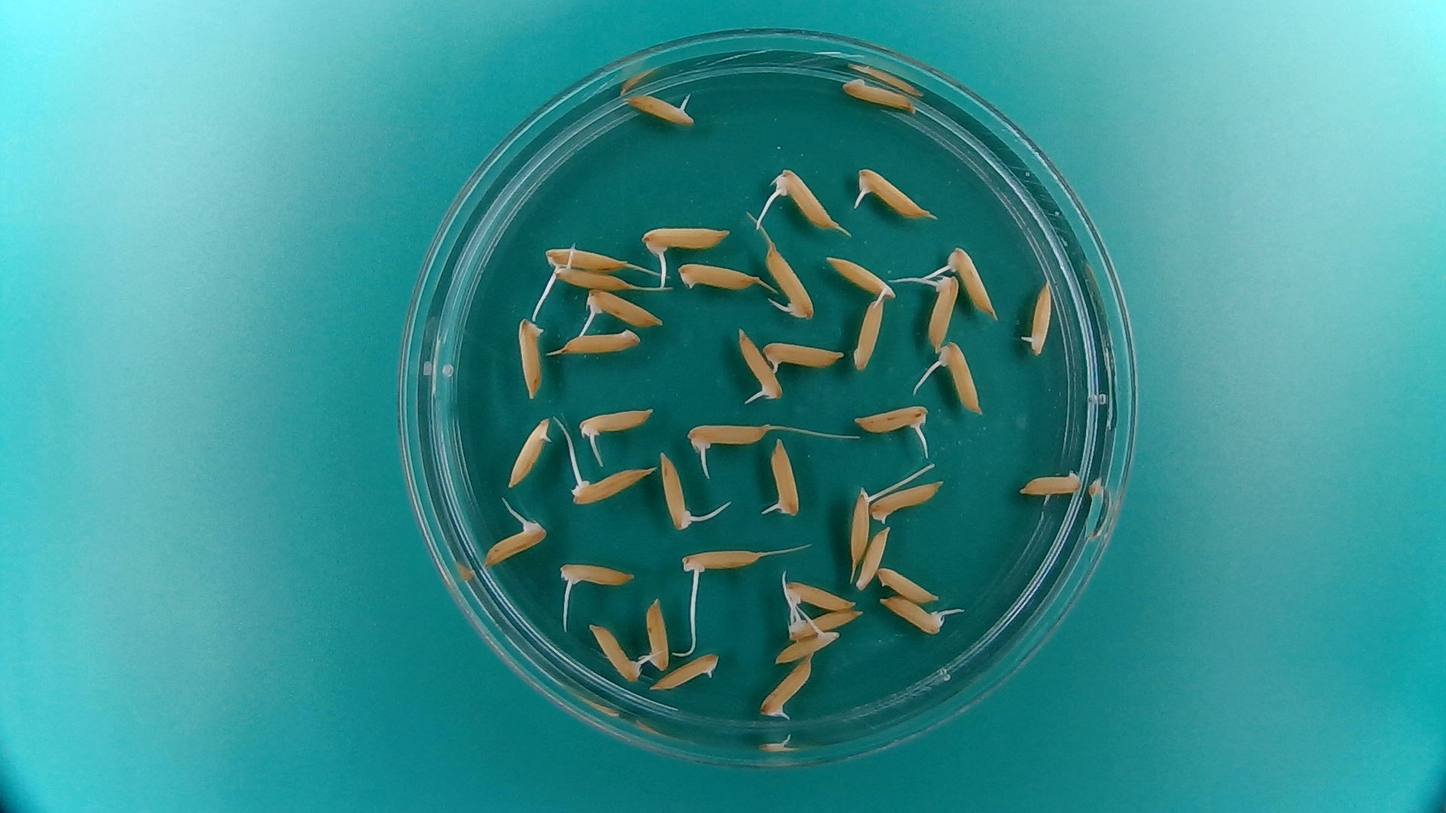no: (838, 73, 920, 114), (850, 292, 889, 373), (514, 310, 548, 402), (651, 650, 722, 694), (560, 322, 643, 358), (673, 258, 758, 293), (875, 564, 943, 605), (853, 523, 891, 592), (872, 483, 947, 517), (1016, 470, 1082, 500)
yes: (773, 165, 842, 232), (932, 339, 984, 416), (655, 449, 703, 532), (859, 173, 936, 224), (767, 243, 818, 320), (537, 242, 632, 282), (588, 620, 643, 688), (823, 252, 899, 301), (758, 657, 814, 720), (947, 248, 997, 318), (850, 401, 931, 444), (581, 287, 665, 328), (738, 327, 782, 405), (759, 336, 847, 374), (506, 418, 553, 489), (875, 593, 950, 636), (642, 221, 735, 255), (621, 85, 698, 126), (573, 469, 654, 507), (768, 434, 803, 521), (686, 419, 777, 452), (779, 575, 858, 613), (480, 520, 545, 566), (679, 545, 764, 580), (542, 263, 632, 294), (924, 278, 961, 352), (784, 607, 862, 642), (1023, 277, 1056, 358), (642, 592, 672, 672), (846, 488, 877, 565), (772, 630, 840, 665), (576, 410, 655, 440), (561, 562, 636, 591)
